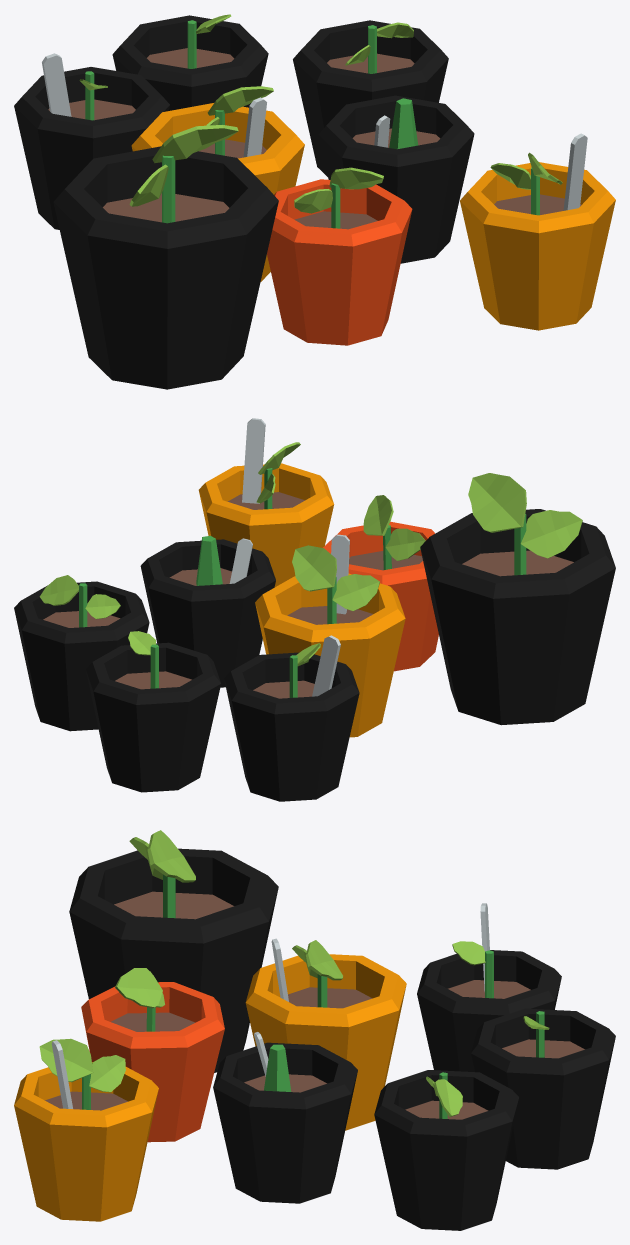
The model's file is Seedlings.glb.
The picture shows the model from 3 angles, top to bottom: view 1: azimuth 30°, elevation 25°; view 2: azimuth 150°, elevation 25°; view 3: azimuth 270°, elevation 25°; orthographic projection. The views are drawn at different scales.
Visible parts, largest first — view 1: group1283830076, group1064217336, group1299267421, group1592232942, group1689936441, group1914783450, group1429698972, group1512650756; view 2: group1283830076, group1689936441, group1429698972, group1512650756, group1592232942, group1914783450, group1064217336, group1299267421; view 3: group1283830076, group1064217336, group1592232942, group1914783450, group1429698972, group1512650756, group1299267421, group1689936441.
Part boxes in pixels (<box>): group1283830076: <box>53,125,278,389</box>; group1064217336: <box>460,133,615,330</box>; group1299267421: <box>267,167,412,345</box>; group1592232942: <box>318,95,474,263</box>; group1689936441: <box>14,53,169,229</box>; group1914783450: <box>293,20,448,176</box>; group1429698972: <box>112,14,268,110</box>; group1512650756: <box>131,86,304,281</box>; group1283830076: <box>420,473,615,725</box>; group1689936441: <box>224,635,359,801</box>; group1429698972: <box>85,631,221,792</box>; group1512650756: <box>255,534,405,737</box>; group1592232942: <box>140,535,275,687</box>; group1914783450: <box>14,575,149,731</box>; group1064217336: <box>198,418,334,586</box>; group1299267421: <box>323,495,438,671</box>; group1283830076: <box>69,830,278,1072</box>; group1064217336: <box>14,1038,158,1221</box>; group1592232942: <box>213,1032,357,1203</box>; group1914783450: <box>374,1070,519,1230</box>; group1429698972: <box>471,1008,615,1169</box>; group1512650756: <box>245,938,406,1130</box>; group1299267421: <box>81,968,224,1142</box>; group1689936441: <box>417,903,561,1071</box>.
Size of the model in its own units: 0.3492 by 0.1542 by 0.3735.
